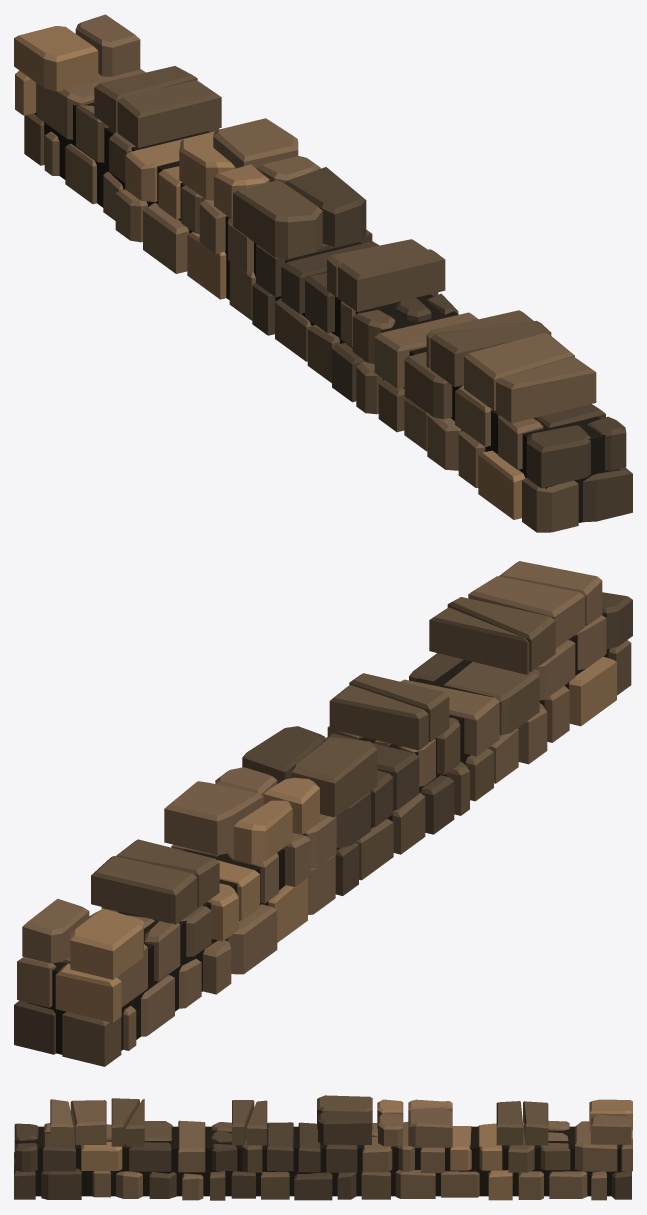
Rendered from ZonOldW03.glb.
3 views of the same model, one above another, from view 1: azimuth 30°, elevation 25°; view 2: azimuth 150°, elevation 25°; view 3: azimuth 270°, elevation 25° (orthographic). The views are drawn at different scales.
Visible parts, largest first — view 1: ZonOldW03_bed; view 2: ZonOldW03_bed; view 3: ZonOldW03_bed.
Part boxes in pixels (bbox=[...]): ZonOldW03_bed: bbox=[14, 14, 632, 532]; ZonOldW03_bed: bbox=[14, 561, 632, 1066]; ZonOldW03_bed: bbox=[14, 1095, 632, 1200].
Bounding box in the file's own units: 1.35 × 1.62 × 11.89.
